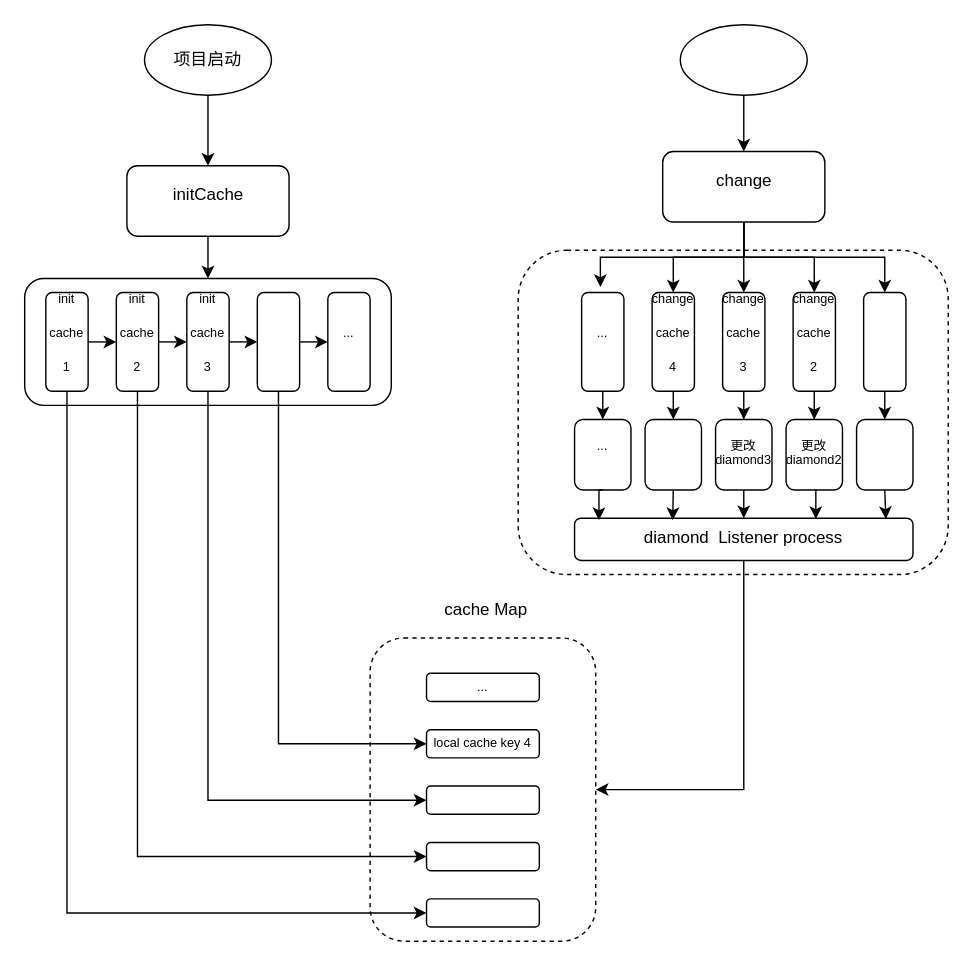
Some shapes in this 973 by 966 pixel diagram are drawn without their labels. The box of each missing label's shape, as (x1, y1, x2, y2) in pixels:
change cache 1: (862, 291, 906, 391)
init cache 4: (256, 291, 300, 391)
local cache key 1: (425, 897, 539, 927)
local cache key 2: (425, 841, 539, 871)
local cache key 3: (425, 785, 539, 814)
更改diamond1: (855, 418, 913, 490)
更改diamond4: (644, 418, 701, 490)
精卫触发: (679, 23, 807, 95)
